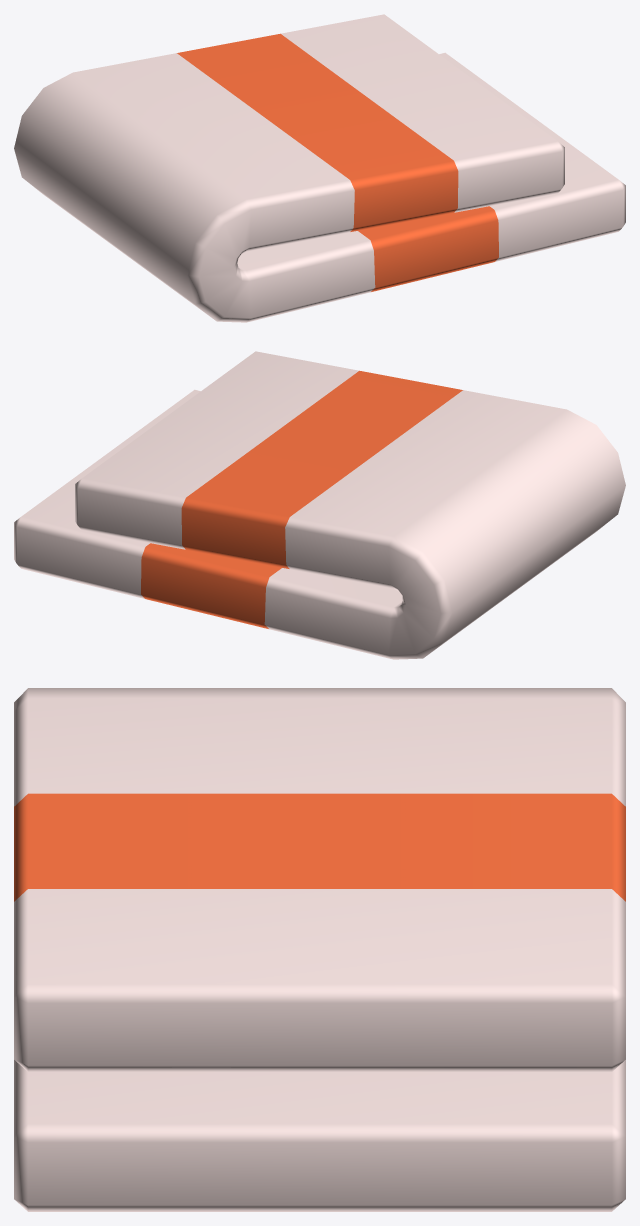
Rendered from Public_13_Towel_2.glb.
3 renders of one model, top to bottom at view 1: azimuth 30°, elevation 25°; view 2: azimuth 150°, elevation 25°; view 3: azimuth 270°, elevation 25°, orthographic. The views are drawn at different scales.
Parts seen in each view (by area): view 1: Public_13_Towel_2; view 2: Public_13_Towel_2; view 3: Public_13_Towel_2.
Part boxes in pixels (x1,y1,x2,y2): Public_13_Towel_2: (14, 14, 625, 322); Public_13_Towel_2: (14, 351, 625, 659); Public_13_Towel_2: (14, 688, 625, 1211).
Bounding box in the file's own units: 1.03 × 0.2754 × 0.7362.
1 material, 1 textured.
